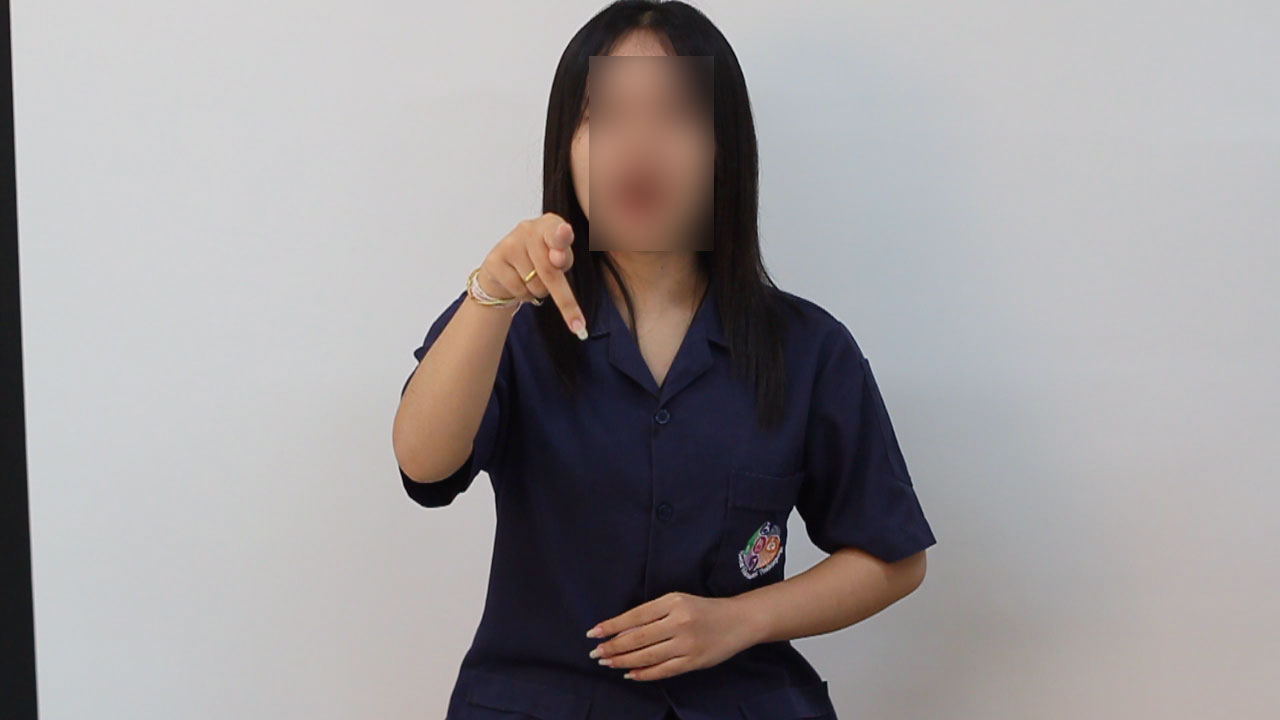por: (457, 192, 594, 366)
